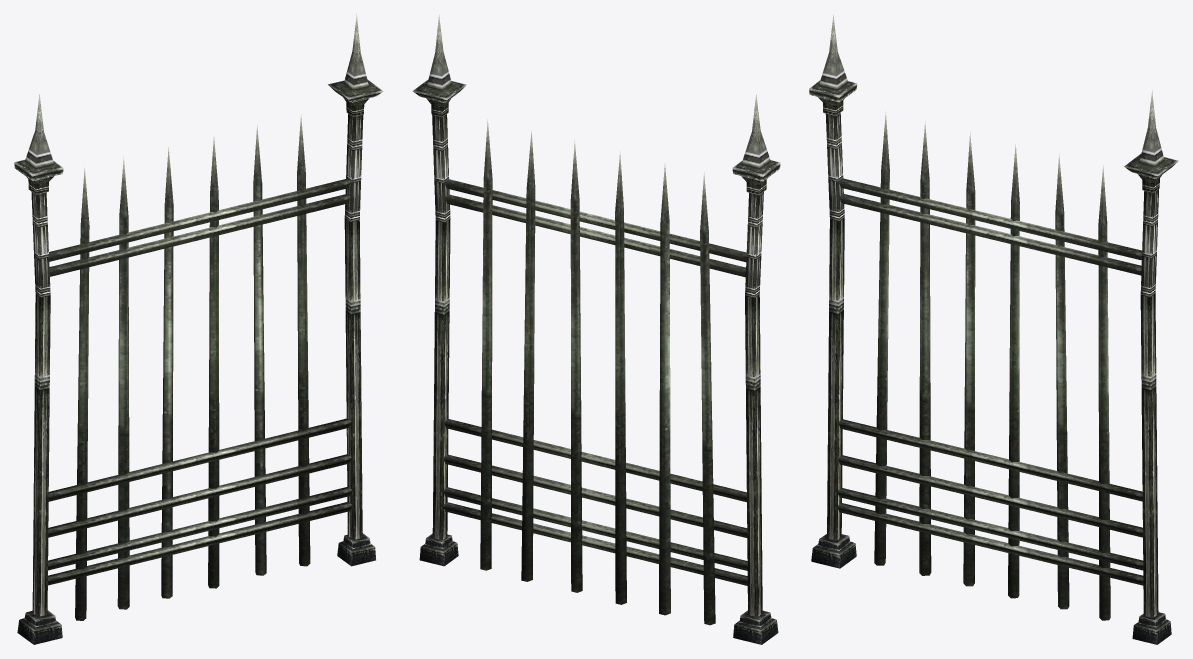
Rendered from OZ_26_mi_fence03A.glb.
The picture shows the model from 3 angles, left to right: view 1: azimuth 30°, elevation 25°; view 2: azimuth 150°, elevation 25°; view 3: azimuth 330°, elevation 25°; orthographic projection.
Parts seen in each view (by area): view 1: OM_26_mi_fence03A; view 2: OM_26_mi_fence03A; view 3: OM_26_mi_fence03A.
Part boxes in pixels (bbox=[...]): OM_26_mi_fence03A: bbox=[14, 14, 383, 644]; OM_26_mi_fence03A: bbox=[412, 15, 780, 644]; OM_26_mi_fence03A: bbox=[809, 14, 1178, 644].
Bounding box in the file's own units: 5.25 × 7.8 × 0.5379.
1 material, 1 textured.
